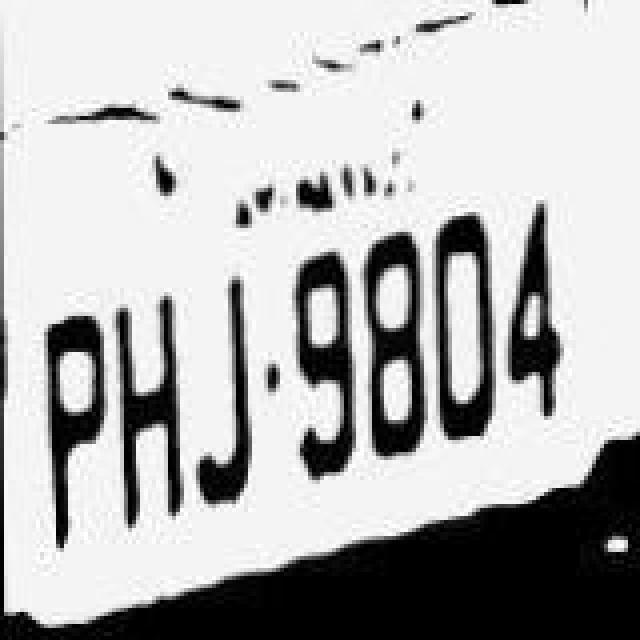4: (504, 176, 580, 440)
8: (358, 210, 430, 482)
9: (286, 238, 358, 518)
H: (116, 272, 192, 544)
J: (190, 270, 262, 534)
O: (430, 176, 502, 452)
P: (38, 274, 118, 542)
